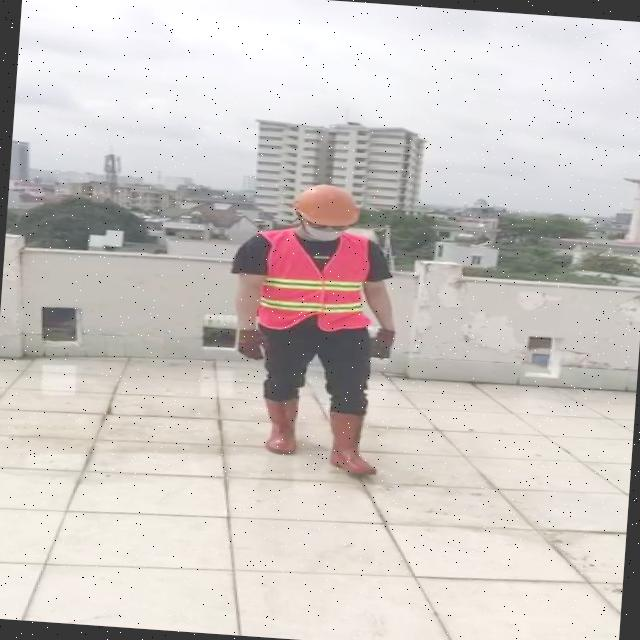boots: (320, 410, 378, 480), (255, 393, 302, 455)
